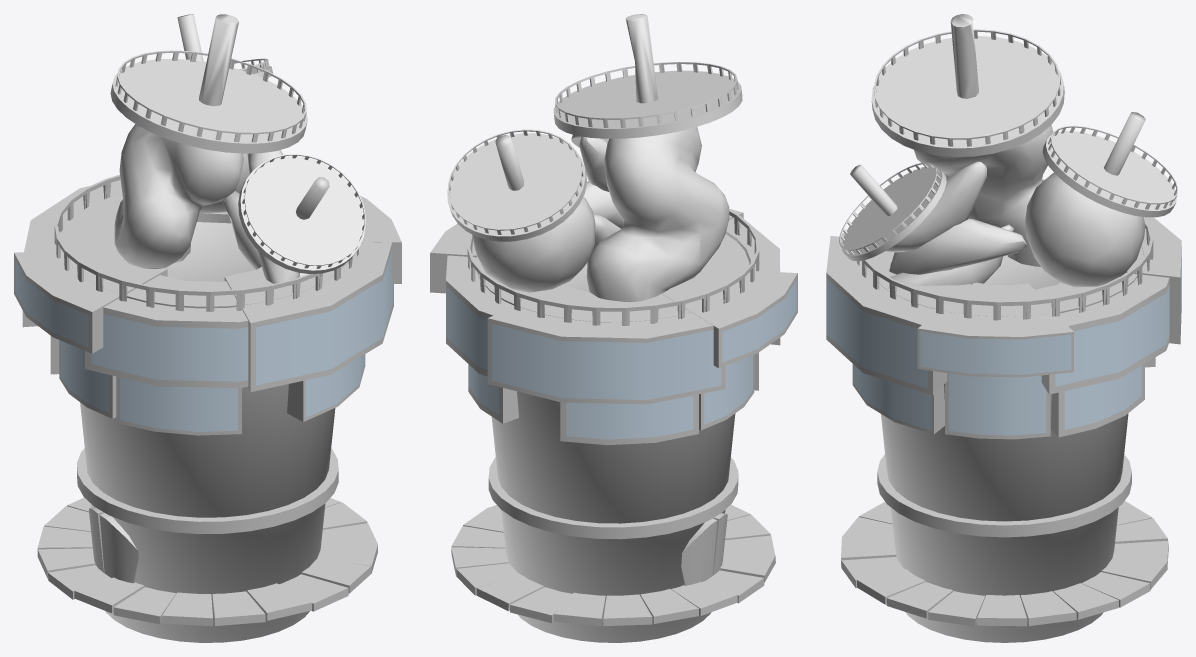
File: P_TusokTusok.fbx
The picture shows the model from 3 angles, left to right: view 1: azimuth 30°, elevation 25°; view 2: azimuth 150°, elevation 25°; view 3: azimuth 270°, elevation 25°; orthographic projection. The views are drawn at different scales.
Parts seen in each view (by area): view 1: Cylinder.011, Stairs, Menu.021, Cylinder.013, Menu.017, BézierCurve.001, Cylinder.015, Menu.013, Menu.018, Cylinder.012, Menu.015, Cube.017 (+10 smaller); view 2: Cylinder.011, Menu.015, BézierCurve.001, Stairs, Cylinder.014, Cylinder.013, Menu.013, Sphere.004, Menu.016, Cylinder.012, Menu.023, Cube.017 (+10 smaller); view 3: Cylinder.011, Cylinder.013, Stairs, Menu.020, Menu.021, Menu.023, Sphere.004, Cylinder.014, Menu.025, BézierCurve.001, Cylinder.015, Cylinder.012 (+10 smaller).
Boxes of the visible parts, bbox=[...] form: Cylinder.011: bbox=[63, 197, 344, 642]; Stairs: bbox=[37, 497, 377, 626]; Menu.021: bbox=[224, 242, 393, 391]; Cylinder.013: bbox=[110, 14, 307, 153]; Menu.017: bbox=[85, 275, 248, 388]; BézierCurve.001: bbox=[114, 124, 243, 268]; Cylinder.015: bbox=[238, 155, 365, 274]; Menu.013: bbox=[14, 249, 167, 353]; Menu.018: bbox=[116, 376, 241, 435]; Cylinder.012: bbox=[77, 448, 338, 533]; Menu.015: bbox=[22, 180, 122, 327]; Cube.017: bbox=[54, 174, 358, 312]; Cylinder.011: bbox=[476, 231, 750, 642]; Menu.015: bbox=[487, 286, 725, 404]; BézierCurve.001: bbox=[586, 127, 729, 302]; Stairs: bbox=[451, 504, 775, 626]; Cylinder.014: bbox=[447, 133, 586, 241]; Cylinder.013: bbox=[553, 14, 742, 138]; Menu.013: bbox=[662, 268, 797, 368]; Sphere.004: bbox=[472, 197, 595, 292]; Menu.016: bbox=[560, 394, 698, 445]; Cylinder.012: bbox=[488, 457, 738, 539]; Menu.023: bbox=[446, 255, 556, 376]; Cube.017: bbox=[467, 209, 759, 325]; Cylinder.011: bbox=[867, 247, 1143, 642]; Cylinder.013: bbox=[871, 14, 1064, 156]; Stairs: bbox=[841, 501, 1168, 626]; Menu.020: bbox=[917, 282, 1073, 377]; Menu.021: bbox=[826, 236, 971, 395]; Menu.023: bbox=[1035, 273, 1169, 394]; Sphere.004: bbox=[1025, 173, 1145, 287]; Cylinder.014: bbox=[1042, 112, 1177, 217]; Menu.025: bbox=[945, 373, 1050, 439]; BézierCurve.001: bbox=[914, 125, 1053, 266]; Cylinder.015: bbox=[842, 164, 946, 261]; Cylinder.012: bbox=[877, 454, 1131, 537].
Bounding box in the file's own units: 5.85 × 5.55 × 9.98.
